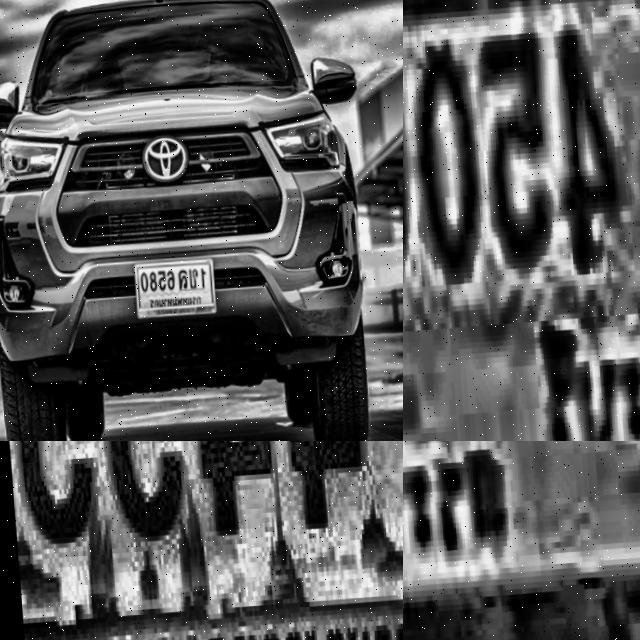license-plate: (403, 0, 640, 441), (0, 441, 403, 640), (403, 441, 640, 640), (122, 248, 215, 332)
